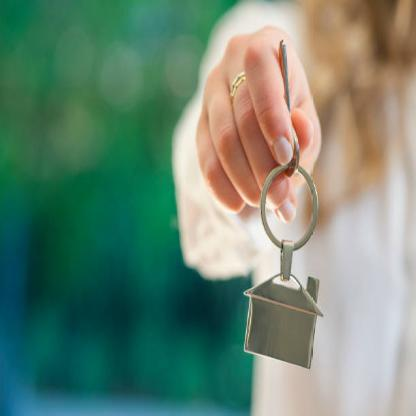keys: (270, 33, 302, 177)
